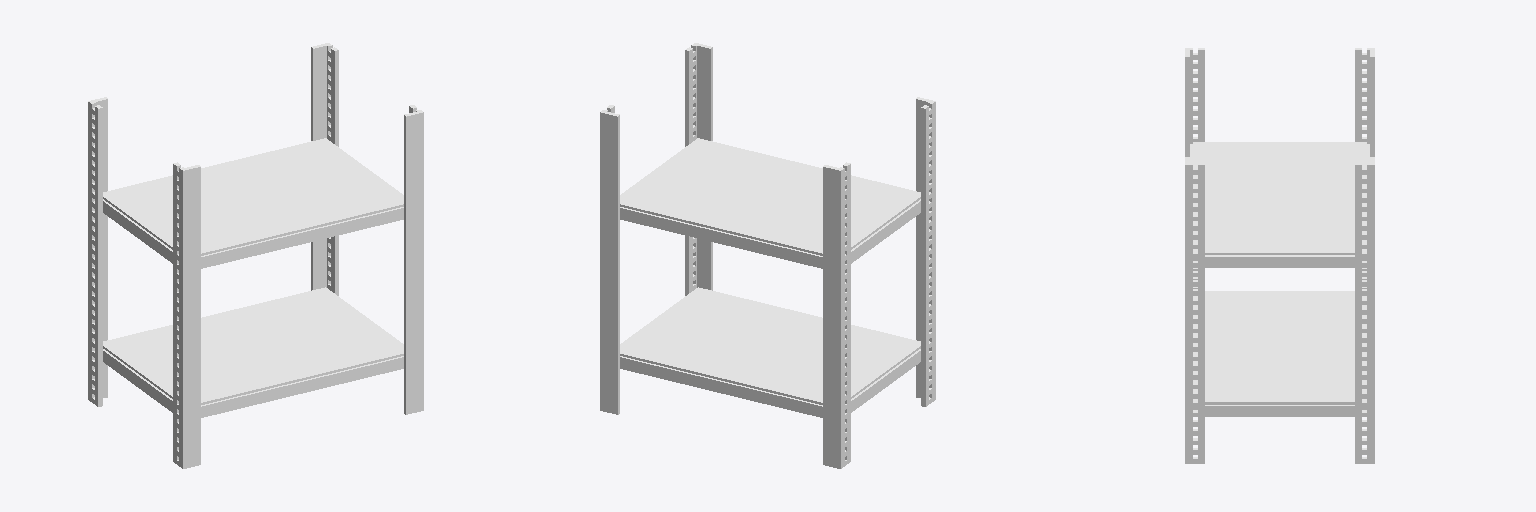
The model's file is PrateleiraDeMetal-ChaoOuMeio.obj.
The picture shows the model from 3 angles: view 1: azimuth 30°, elevation 25°; view 2: azimuth 150°, elevation 25°; view 3: azimuth 270°, elevation 25°; orthographic projection.
Parts seen in each view (by area): view 1: object 1; view 2: object 1; view 3: object 1.
Boxes of the visible parts, x1=… form: object 1: x1=88, y1=43, x2=423, y2=468; object 1: x1=600, y1=43, x2=935, y2=468; object 1: x1=1185, y1=48, x2=1374, y2=463.
Bounding box in the file's own units: 10.8 × 12.8 × 7.4.